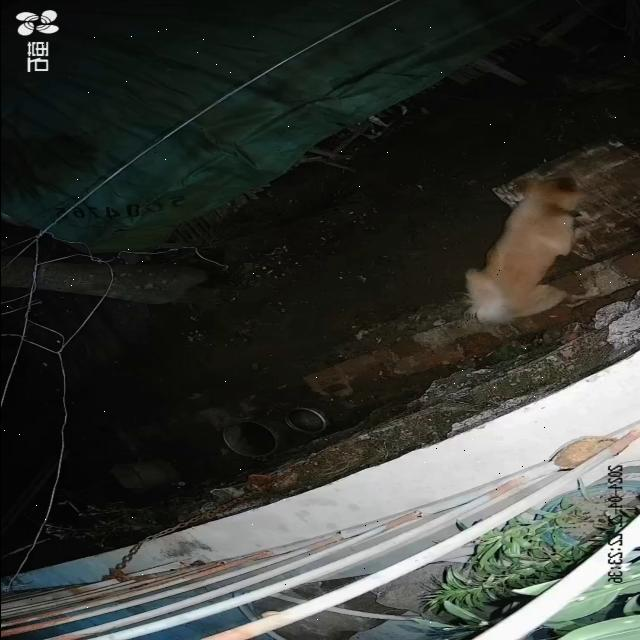dog: (461, 179, 590, 325)
